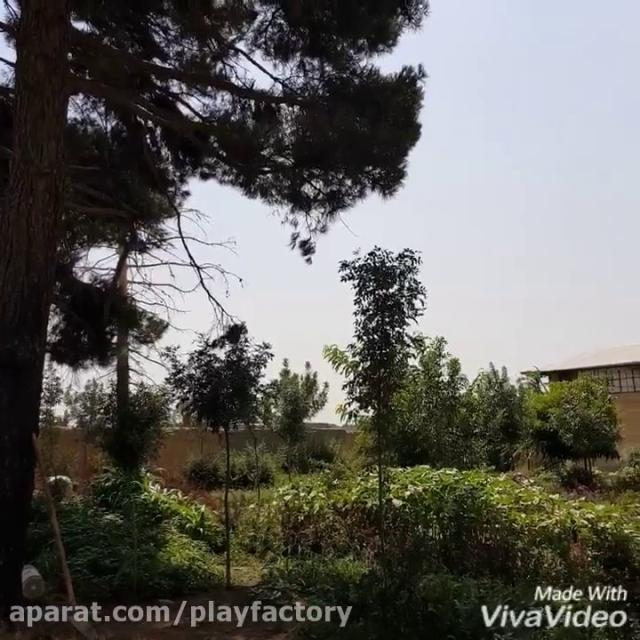drone: (349, 239, 367, 257)
